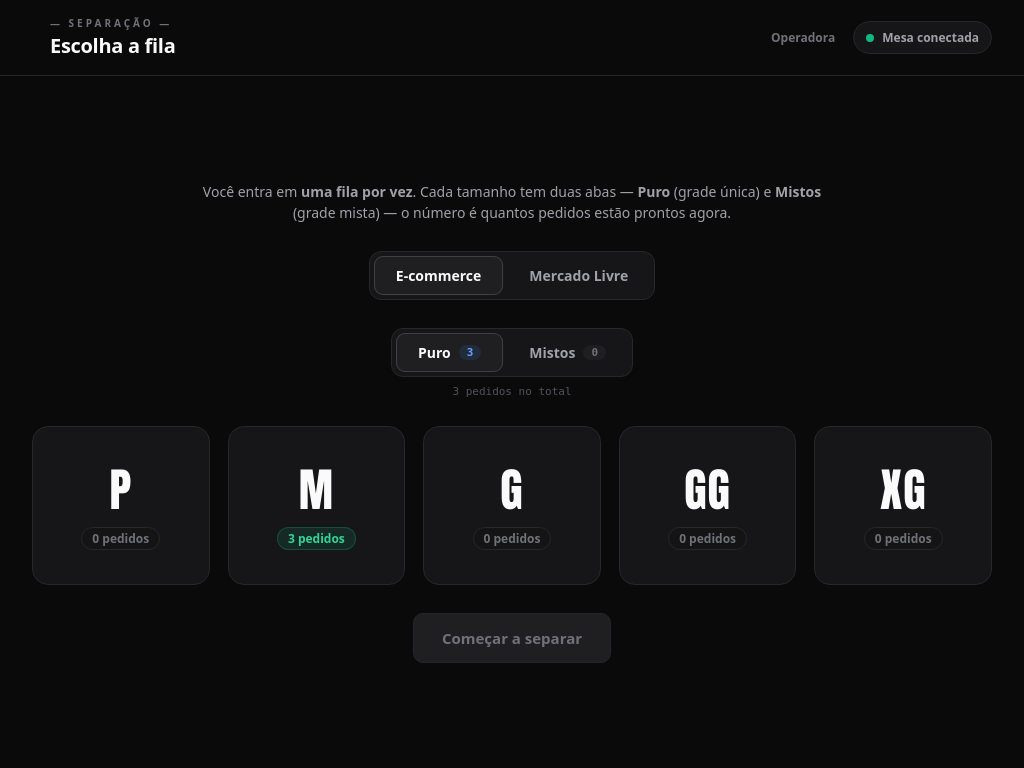
Separação — aba Mercado Livre › canal Mercado Livre lê as contagens do canal e manda canal no lote
Click the button "Mercado Livre" at x=579, y=276, box [507,256,650,295]
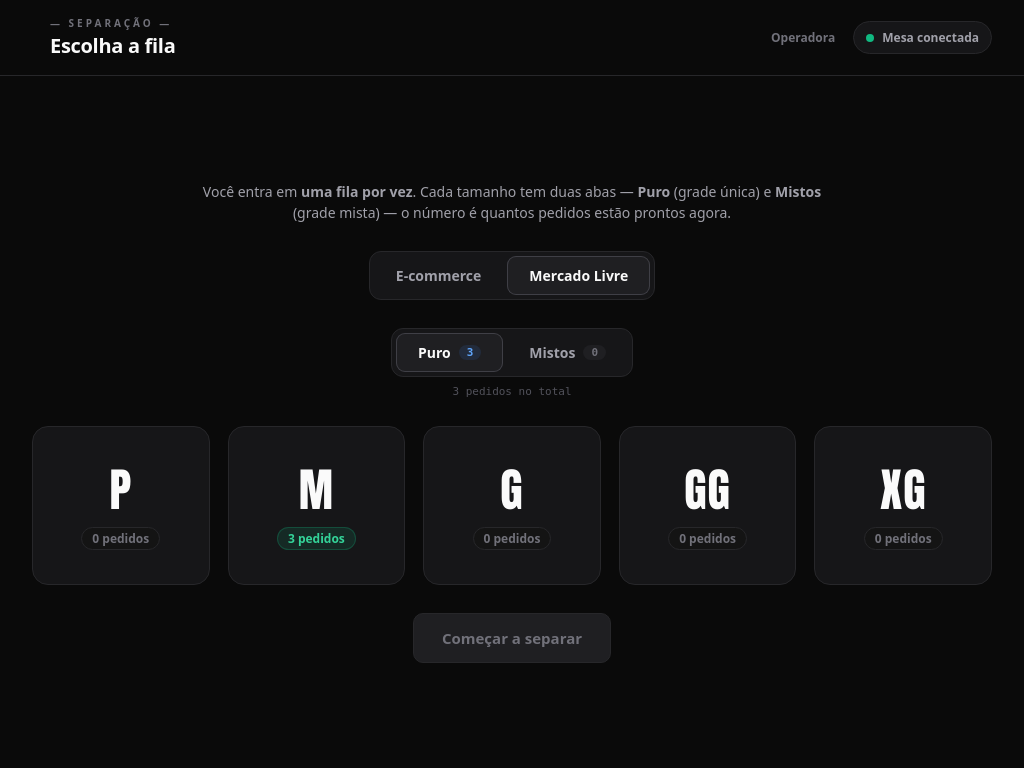
Click the button "M 3 pedidos" at x=316, y=506, box [228,426,405,585]
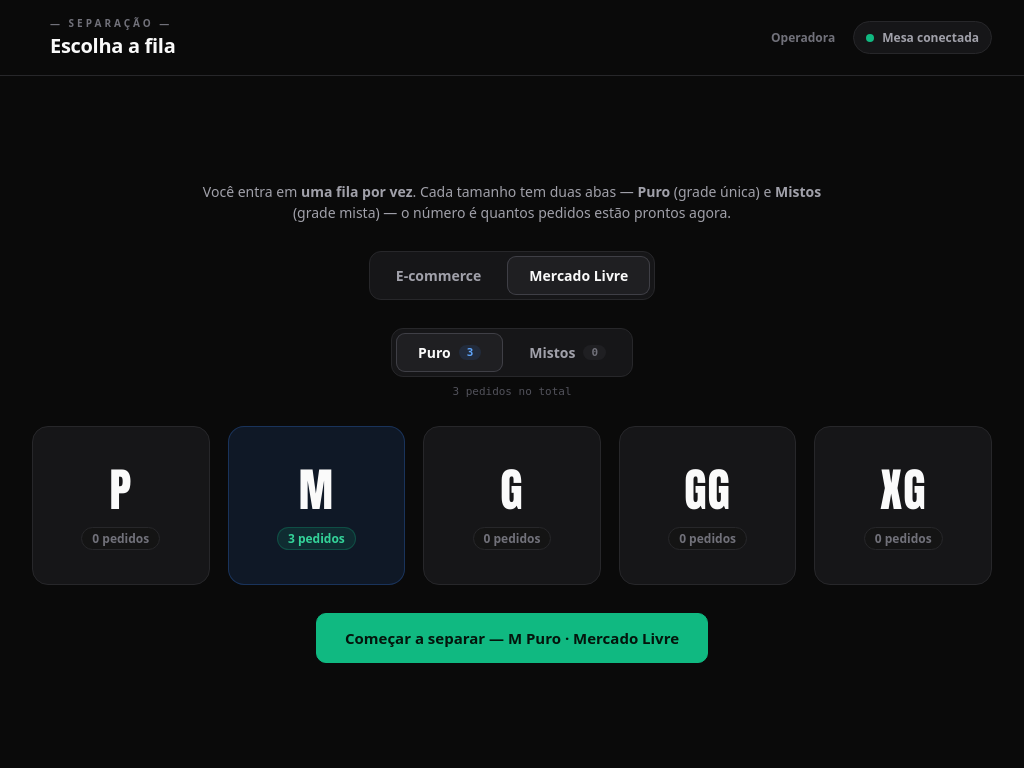
Expected: the button "Começar a separar — M Puro · Mercado Livre" is shown
Click the button "Começar a separar — M Puro · Mercado Livre" at x=512, y=638, box [316,613,708,663]
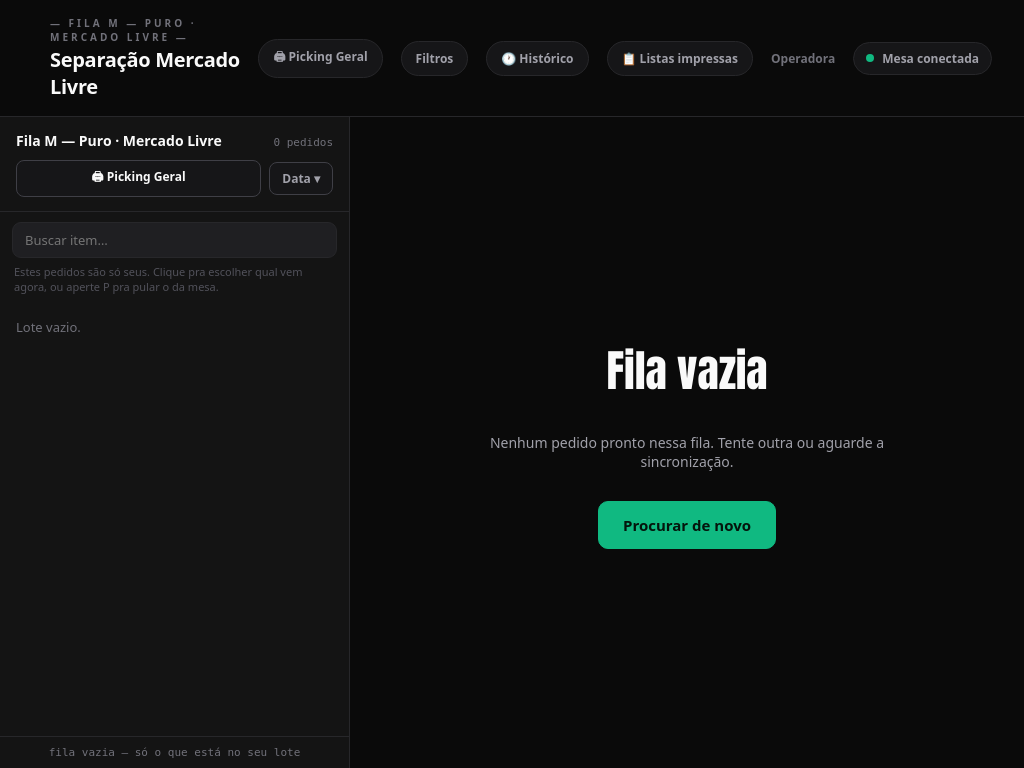
Expected: the text "― Fila M — Puro · Mercado Livre ―" is shown, [50,16,197,44]
